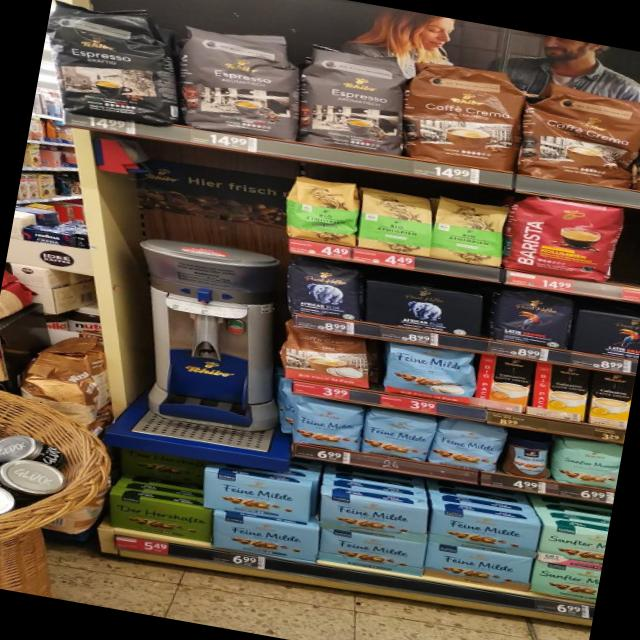AB Bohne: (274, 256, 366, 324)
AB Gemahlen: (358, 278, 489, 343)
Athiopien Bohne: (280, 172, 363, 248)
Athiopien Gemahlen: (350, 184, 440, 258), (428, 195, 511, 268)
Barista Kolumbien: (504, 192, 626, 288)
CC Vollmundig: (274, 324, 378, 392)
CC Vollmundig 36 Pads: (398, 59, 528, 174), (515, 78, 640, 191)
Espresso Aromatisch: (166, 20, 310, 144), (291, 42, 414, 158)
Espresso Kraftig: (37, 0, 192, 128)
FM 36 Pads: (377, 340, 480, 408)
FM Bohne: (286, 397, 366, 455), (360, 408, 438, 466), (430, 416, 507, 474)
FM Gemahlen: (190, 464, 318, 526), (314, 488, 434, 546), (207, 507, 320, 565), (426, 503, 542, 559), (423, 538, 536, 593), (314, 526, 426, 579)
FM Instant: (500, 434, 556, 481)
Herzhatfe Mundig: (100, 488, 218, 546)
LG Bohne: (486, 284, 579, 353)
SM Bohne: (550, 435, 622, 492)
